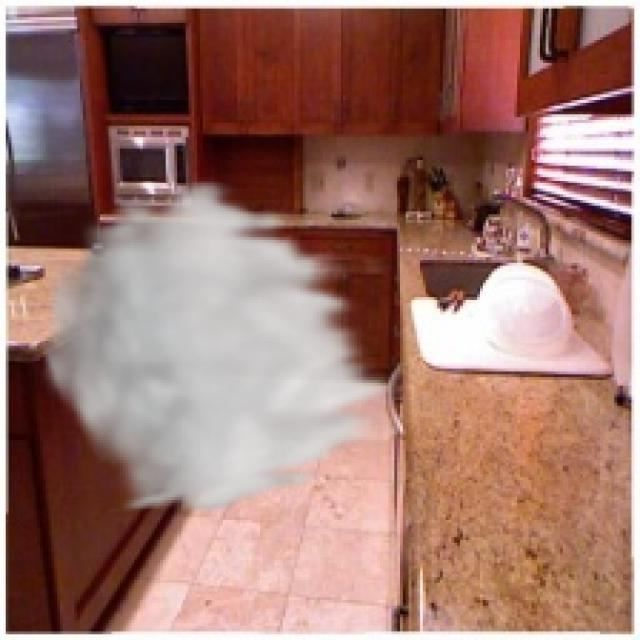smoke: (34, 174, 406, 517)
